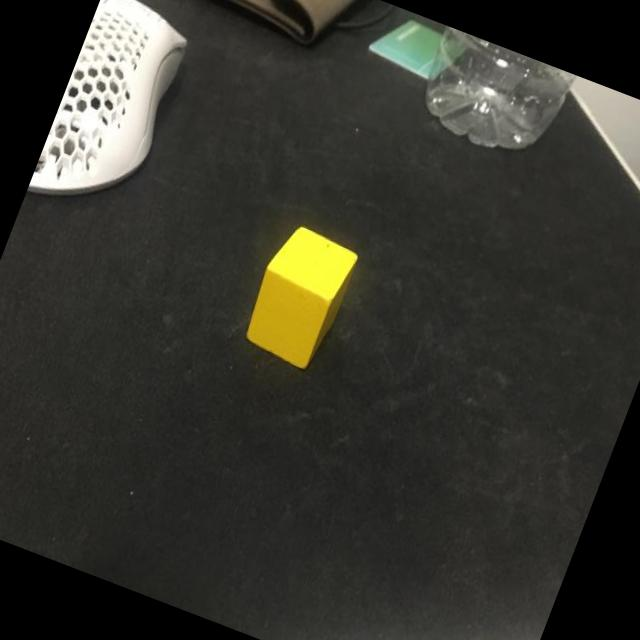yellow: (236, 220, 362, 375)
